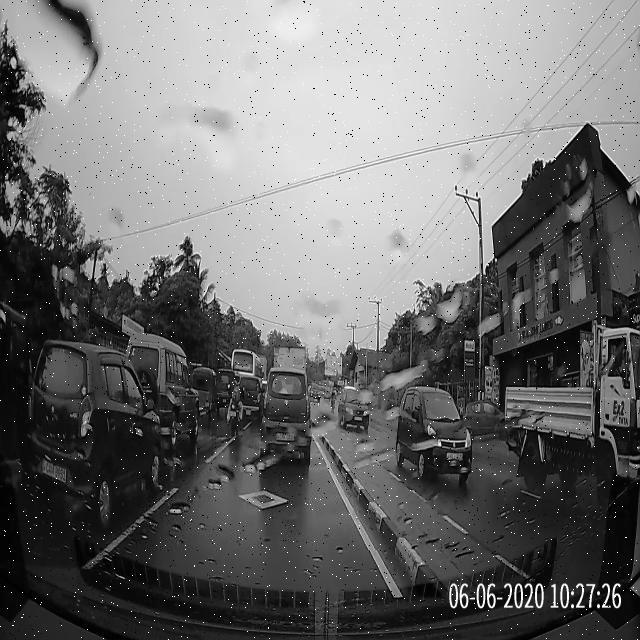diamond: (137, 466, 378, 550)
